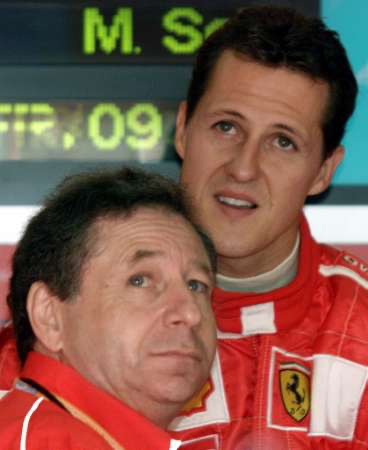Face: (87, 234, 229, 407), (184, 81, 327, 246)
